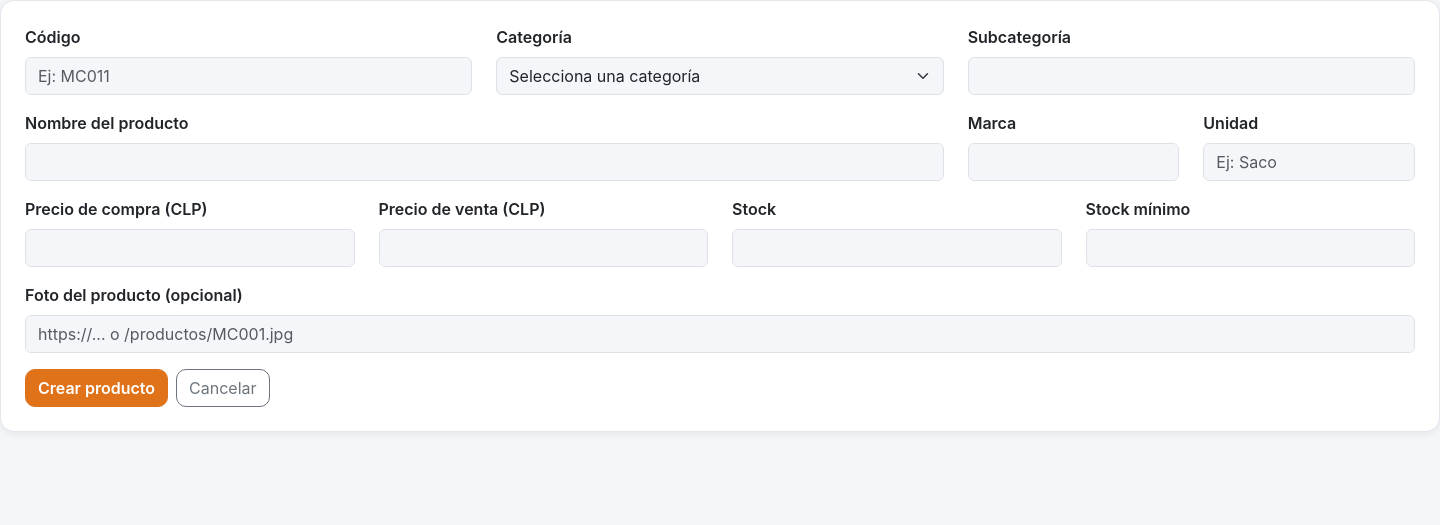
it: el formulario de producto vacío muestra errores y no se envía
Click the button "Crear producto" at (96, 388), box [25,369,168,407]
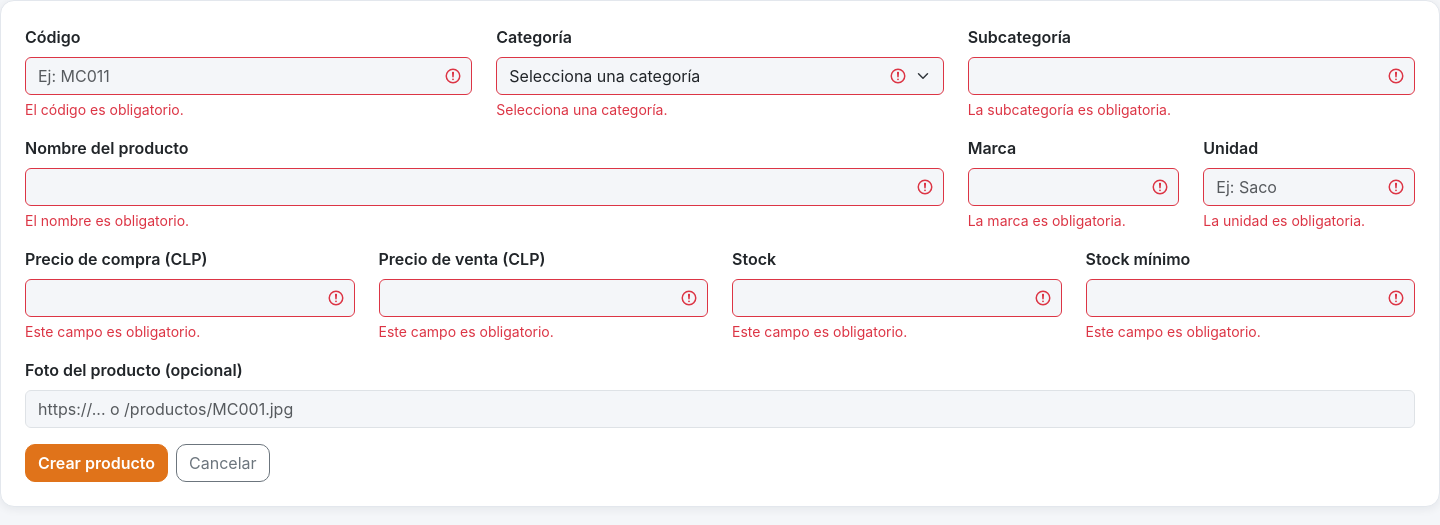
Expected: the text "El código es obligatorio." is shown, [25,101,184,118]
